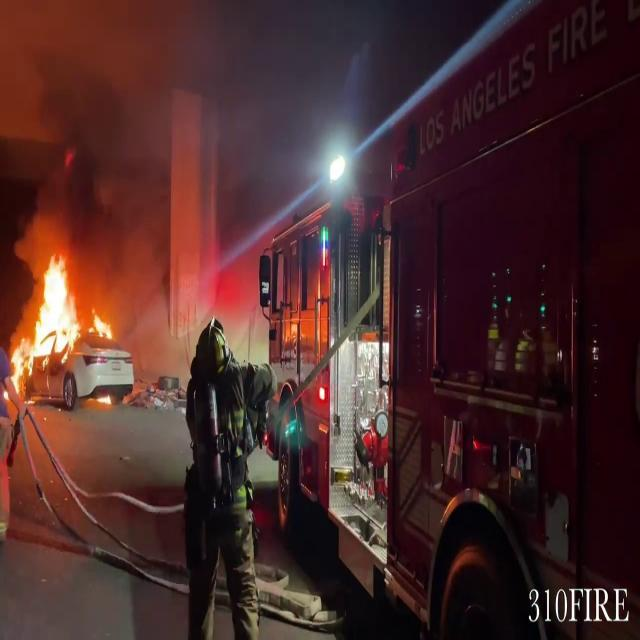Fire: (3, 246, 88, 388), (89, 302, 115, 347)
Smoke: (1, 4, 166, 280)
